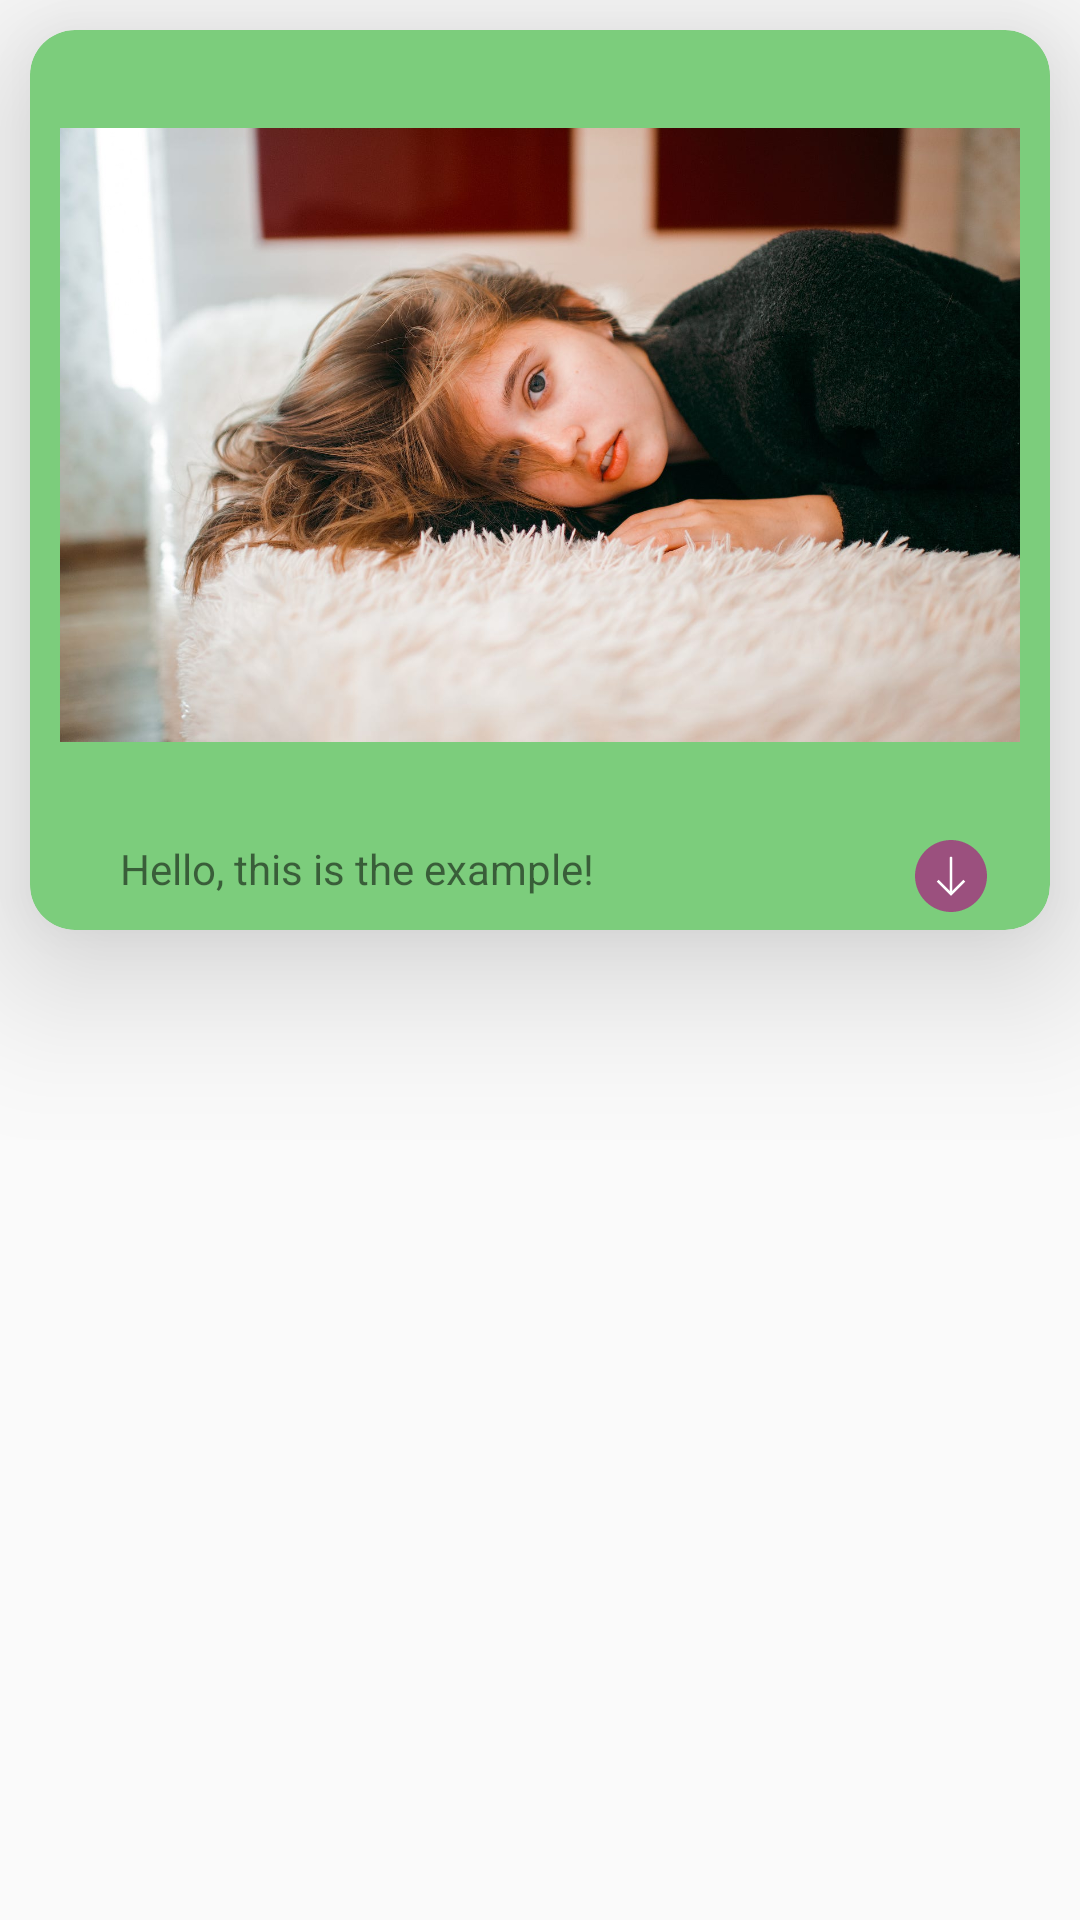

Named icons in this screenshot (1080px×1920px) and their bounding boxes, (x1, y1, x2, y2):
download: (915, 840, 987, 912)
